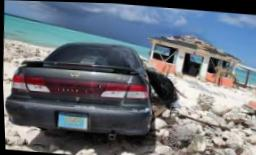Bumper: (6, 97, 151, 141)
